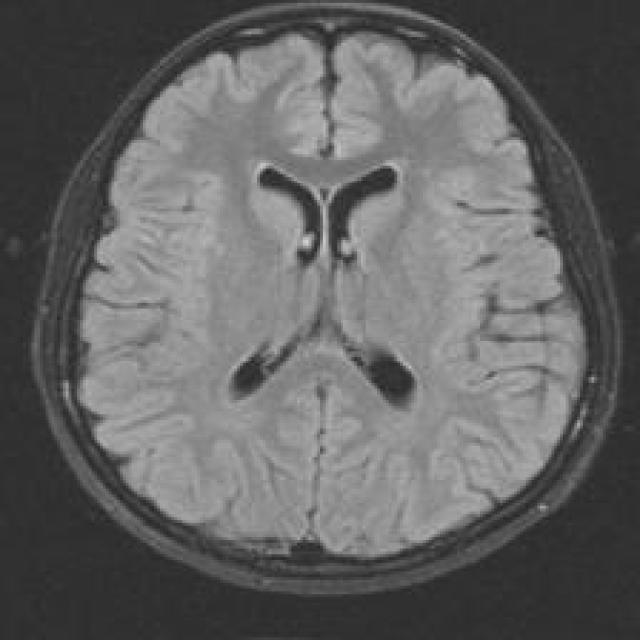no_tumor: (25, 0, 629, 606)
